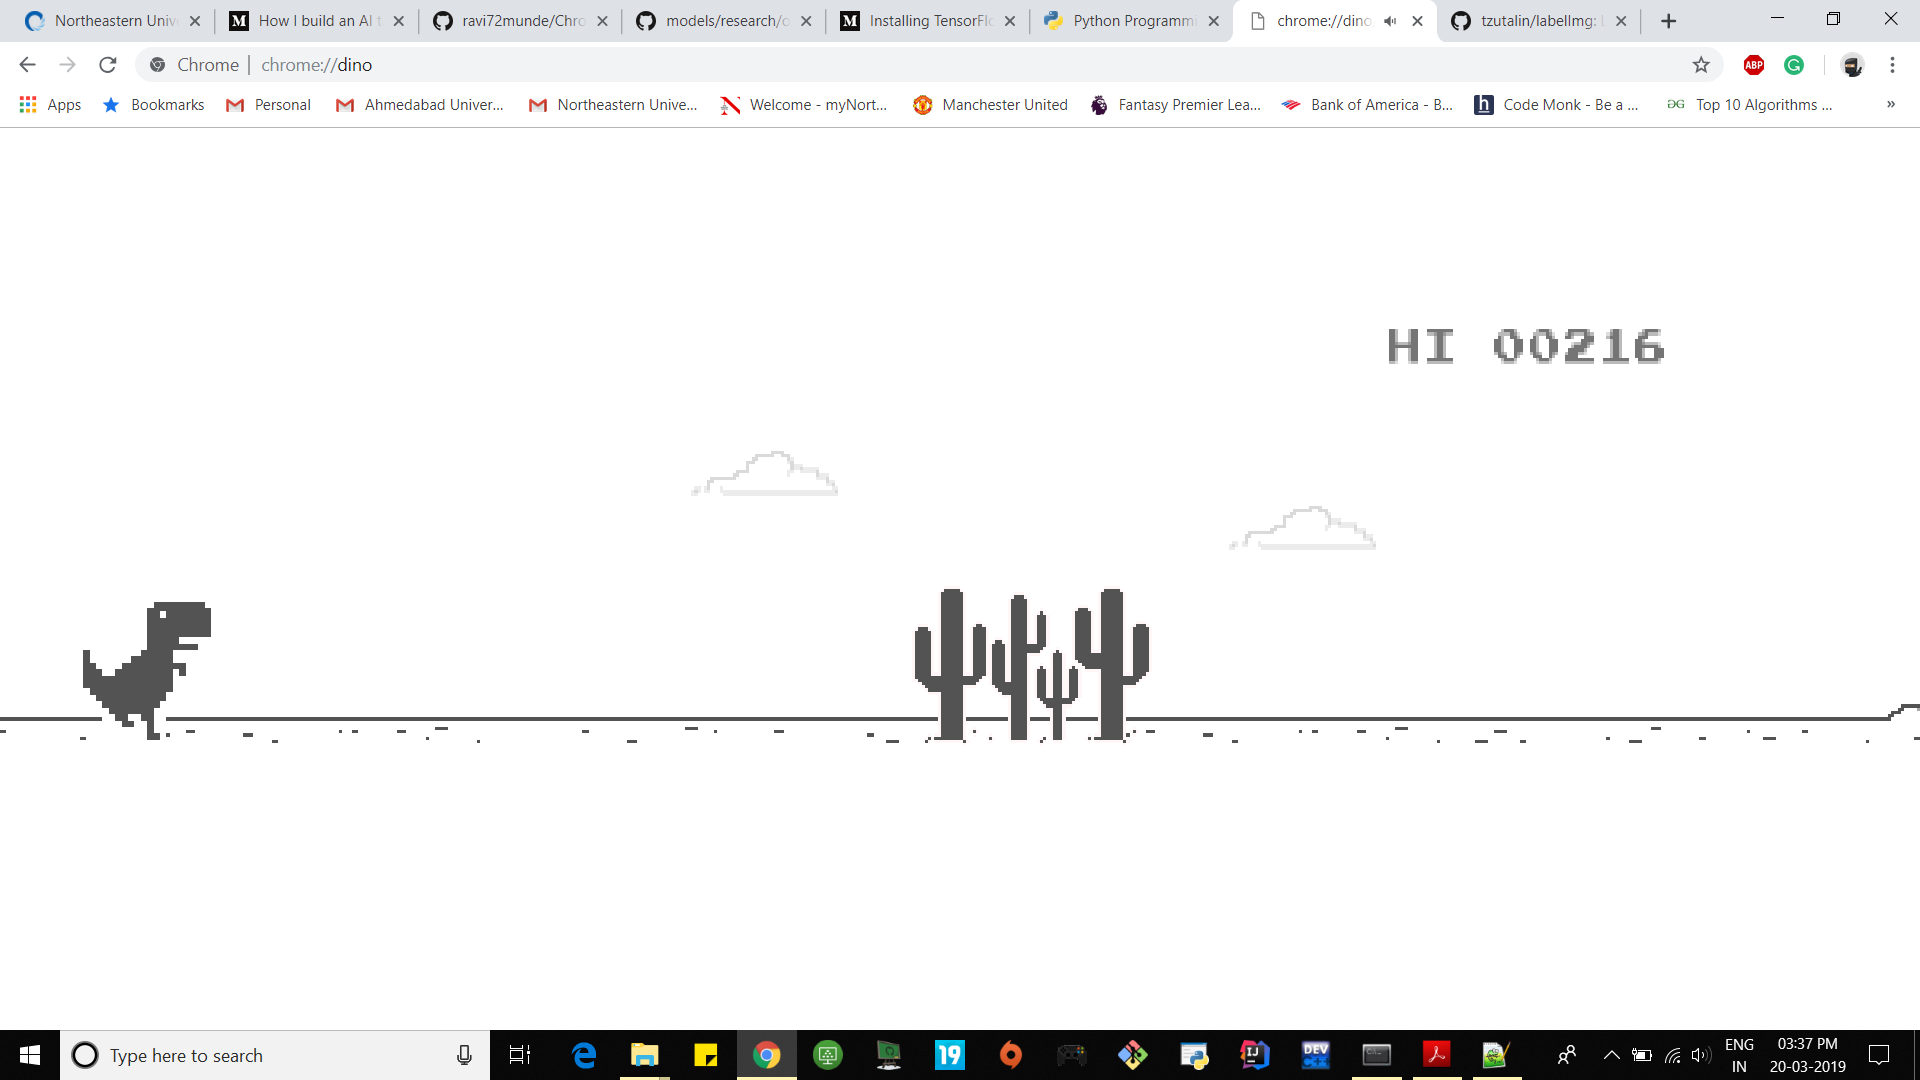cactus-4: (913, 585, 1153, 742)
dino: (82, 600, 211, 744)
